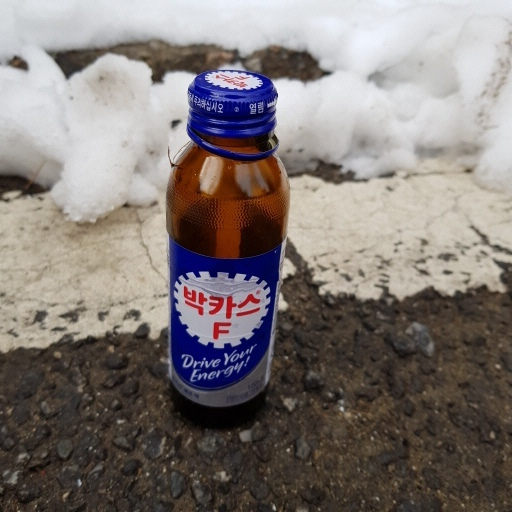Glass_3: (159, 72, 292, 425)
